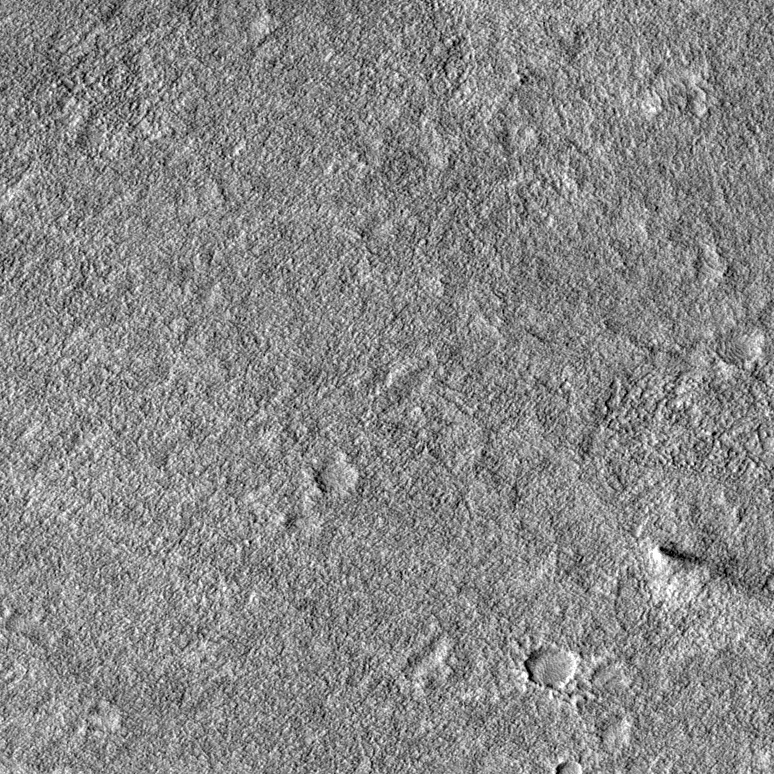dust_devil: (650, 543, 770, 599)
